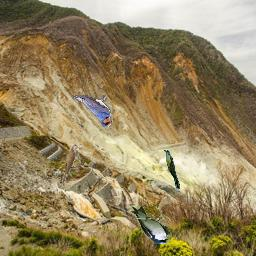Cuckoo: (62, 144, 79, 184), (164, 150, 180, 190)
Swallow: (130, 206, 170, 244), (72, 95, 112, 127)
